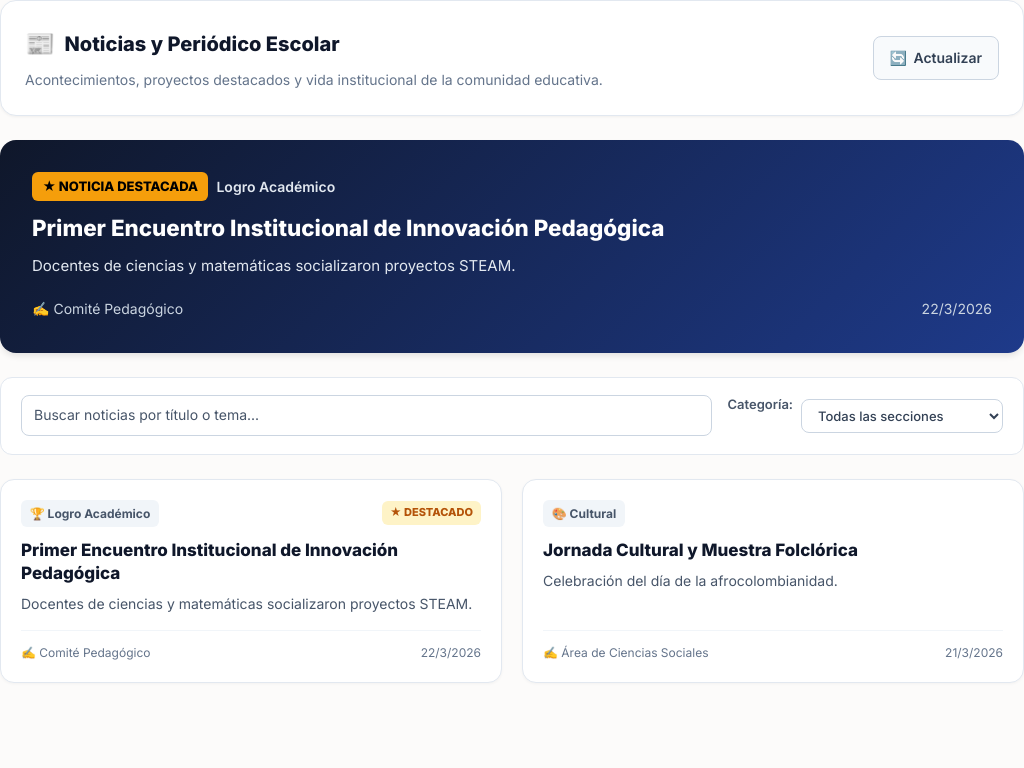
Test: Teacher News View (Phase B2) › filters news by category and shows empty state when none match
Filter by category where none match (CIENCIA_TECNOLOGIA)
Select "🔬 Ciencia y Tecnología" in the dropdown: x=902, y=416 [801,398,1003,433]
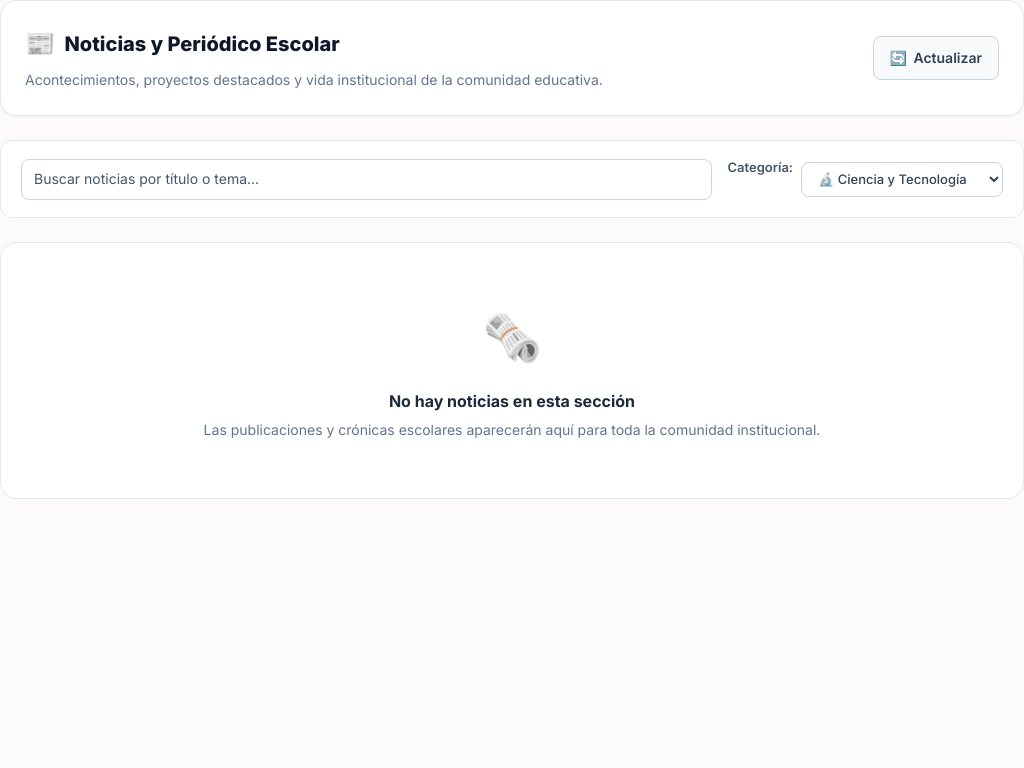
expect the heading "No hay noticias en esta sección" is shown: met, box [389,391,635,411]
